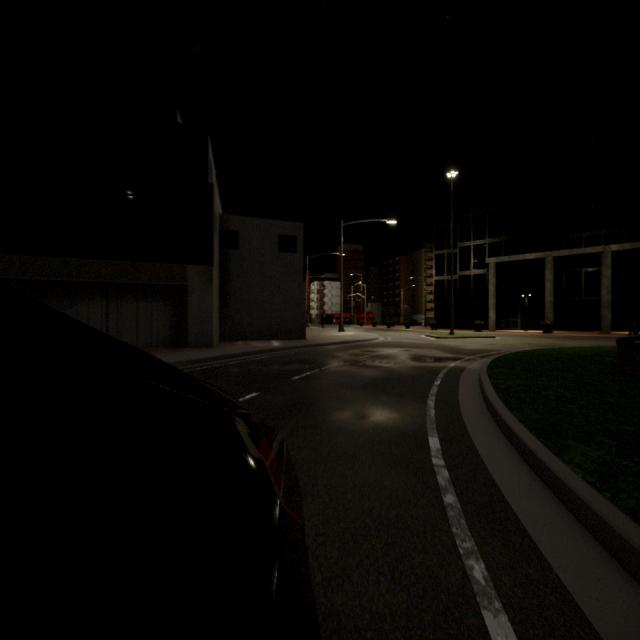Pedestrian: (320, 310, 324, 328)
Vehicle: (0, 295, 305, 637), (355, 312, 376, 326), (332, 313, 350, 324)
